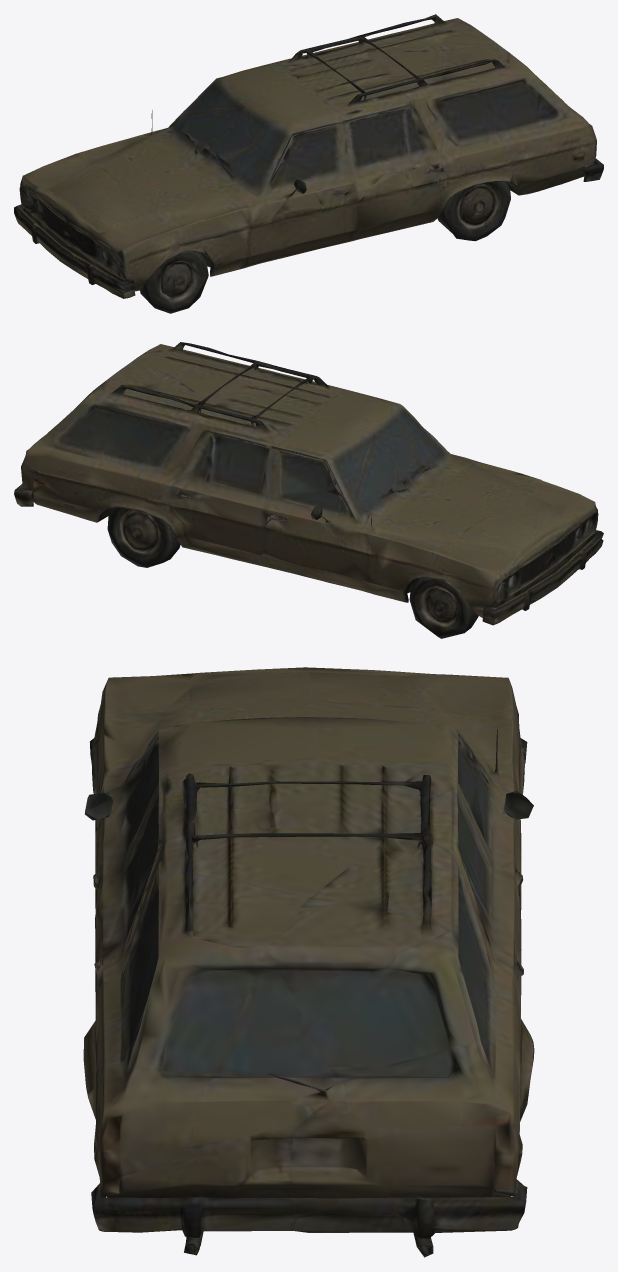
The model's file is car_wagon_light_q3.glb.
3 renders of one model, top to bottom at view 1: azimuth 30°, elevation 25°; view 2: azimuth 150°, elevation 25°; view 3: azimuth 270°, elevation 25°, orthographic. The views are drawn at different scales.
Bounding box in the file's own units: 4.78 × 1.49 × 1.88.
1 material, 1 textured.
